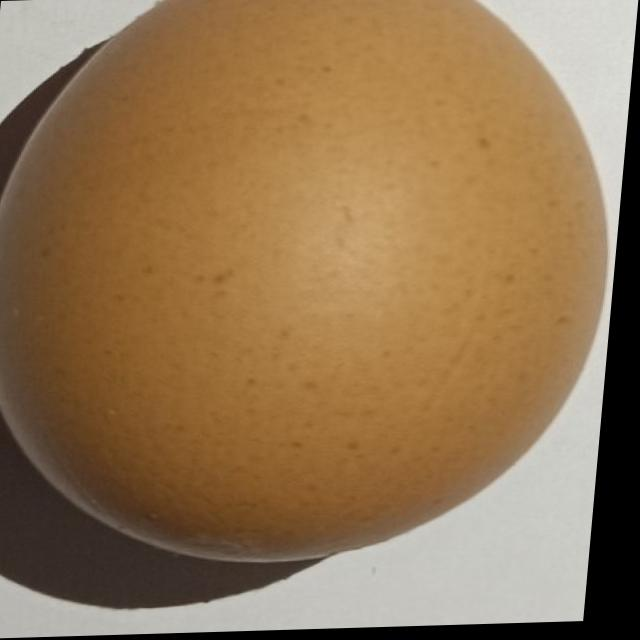unfresh: (0, 0, 629, 574)
